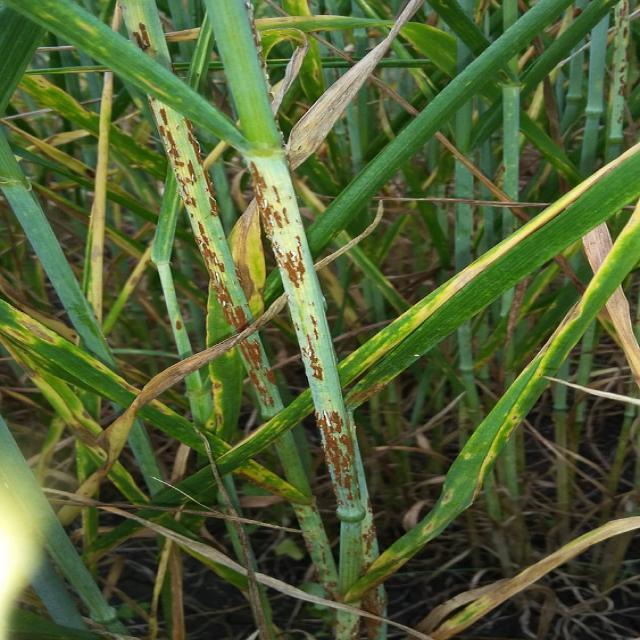wheat-stemrust: (251, 157, 365, 601), (149, 98, 253, 332), (118, 0, 172, 72), (238, 336, 274, 408), (323, 611, 360, 640)
